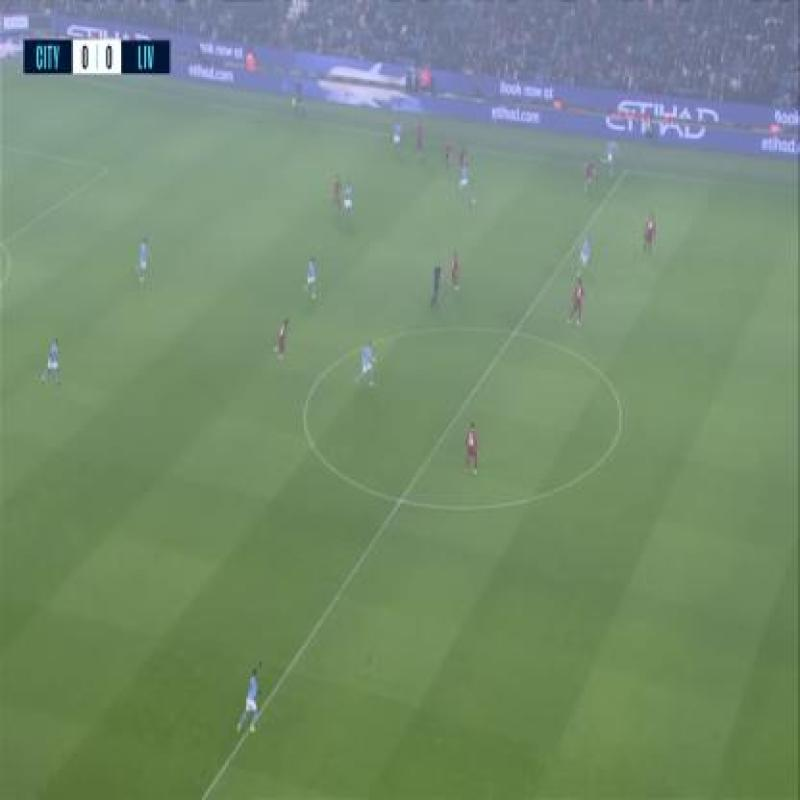13: (619, 160, 634, 184)
14: (502, 321, 525, 348)
15: (388, 484, 414, 516)
9: (96, 158, 119, 182)
c: (299, 356, 344, 398), (600, 424, 632, 458)
